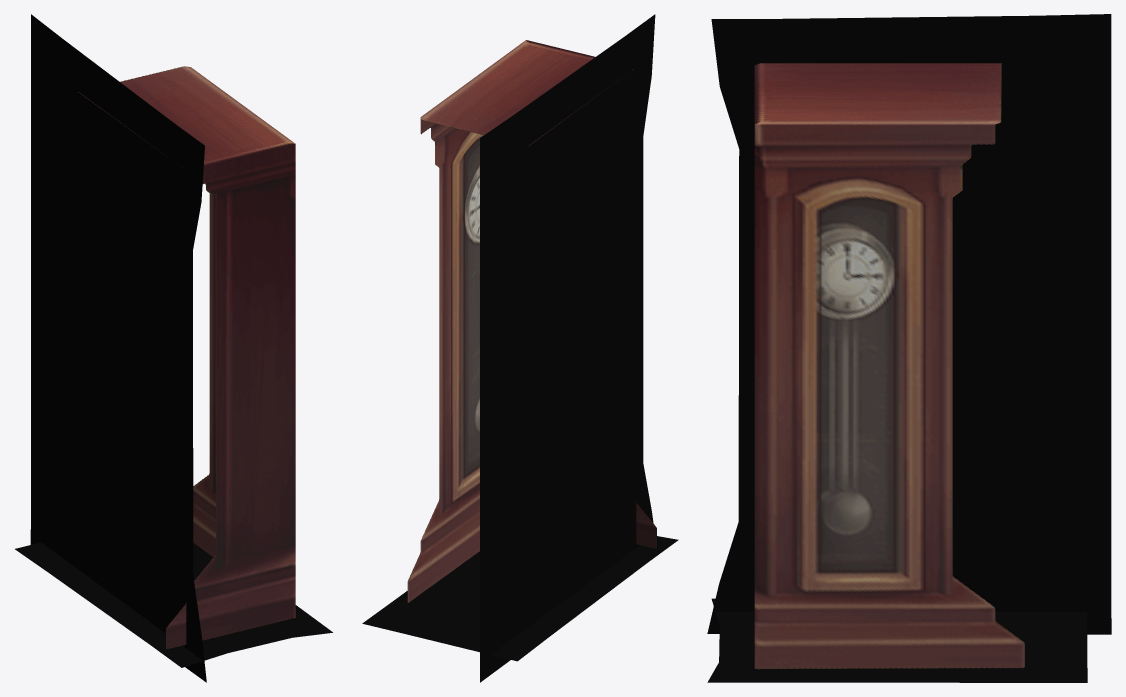
Rendered from K1_Shape012_Anim@refesh.FBX.
The picture shows the model from 3 angles, left to right: view 1: azimuth 30°, elevation 25°; view 2: azimuth 150°, elevation 25°; view 3: azimuth 270°, elevation 25°; orthographic projection. The views are drawn at different scales.
Parts seen in each view (by area): view 1: n_yy00, n, n_yy01; view 2: n_yy00, n, n_yy01; view 3: n, n_yy00, n_yy01.
Boxes of the visible parts, x1,y1,x2,y2 form: n_yy00: (30,14,206,682); n: (78,66,295,649); n_yy01: (15,542,332,667); n_yy00: (480,14,655,682); n: (407,40,656,602); n_yy01: (362,536,678,661); n: (754,63,1024,669); n_yy00: (707,14,1111,634); n_yy01: (707,598,1087,682).
Bounding box in the file's own units: 0.7272 × 2.44 × 1.44.
